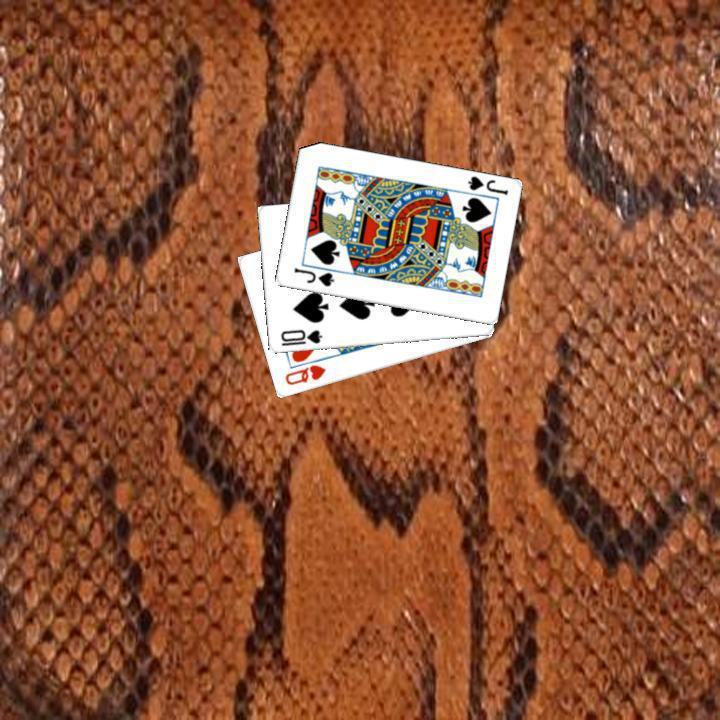10: (276, 326, 324, 348)
J: (289, 264, 336, 289), (463, 172, 509, 197)
Q: (280, 361, 328, 387)
